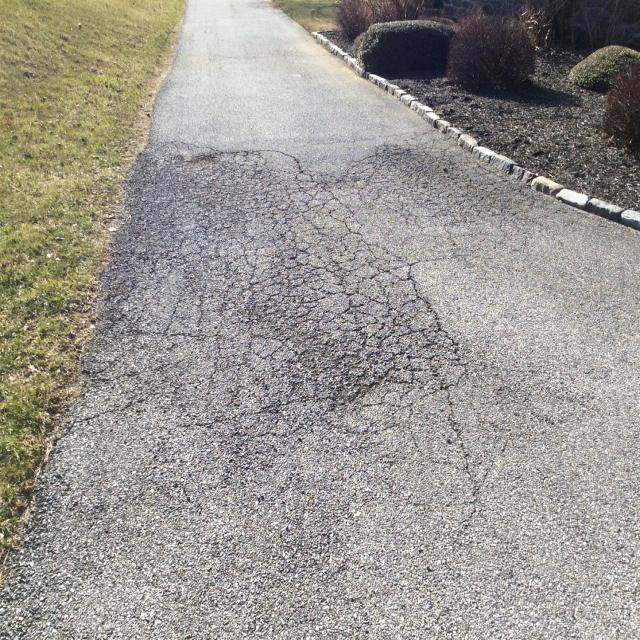Drain Hole: (145, 192, 465, 461)
